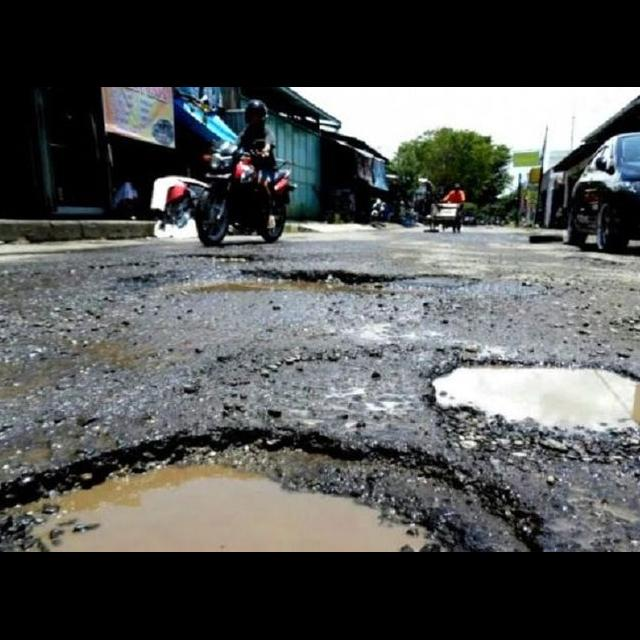lubang_kecil: (0, 398, 546, 552), (411, 328, 640, 468), (101, 266, 478, 305), (157, 246, 287, 270)
